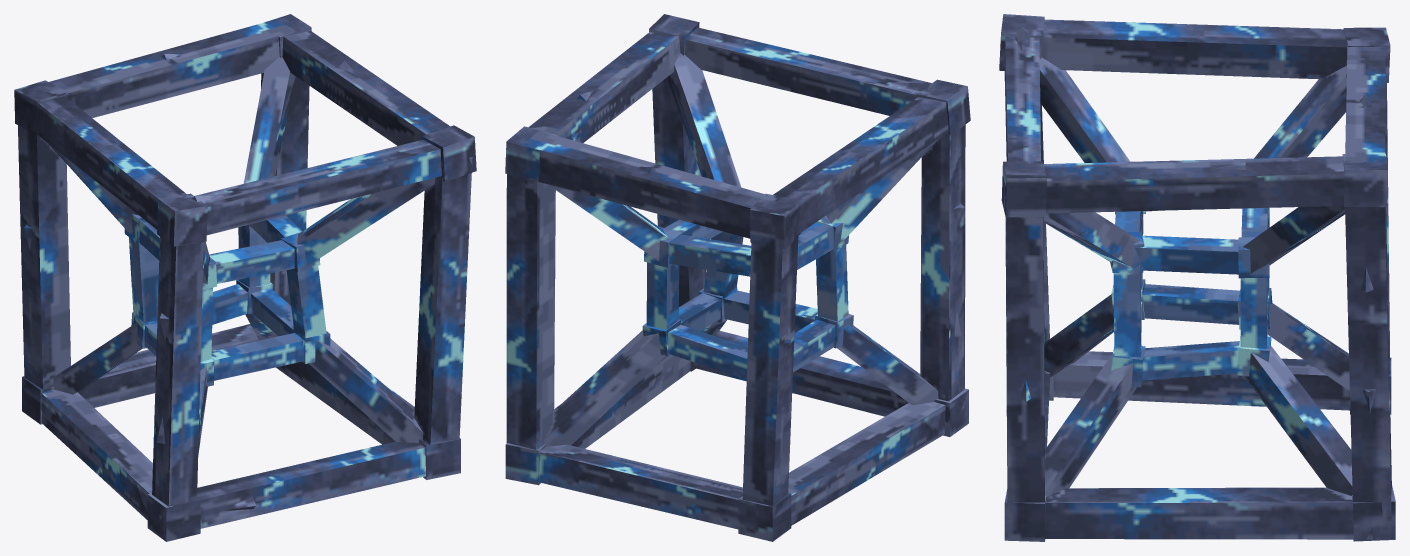
Rendered from CI02_Hypercube.fbx.
3 renders of one model, left to right at view 1: azimuth 30°, elevation 25°; view 2: azimuth 150°, elevation 25°; view 3: azimuth 270°, elevation 25°, orthographic. The views are drawn at different scales.
Visible parts, largest first — view 1: CI02_Hypercube; view 2: CI02_Hypercube; view 3: CI02_Hypercube.
Part boxes in pixels (box(x1,y1,x2,y2)): CI02_Hypercube: box(14, 14, 476, 541); CI02_Hypercube: box(505, 14, 970, 541); CI02_Hypercube: box(999, 14, 1395, 541).
Size of the model in its own units: 0.2011 by 0.2088 by 0.2006.
Materials: 1 (1 with a texture image).
